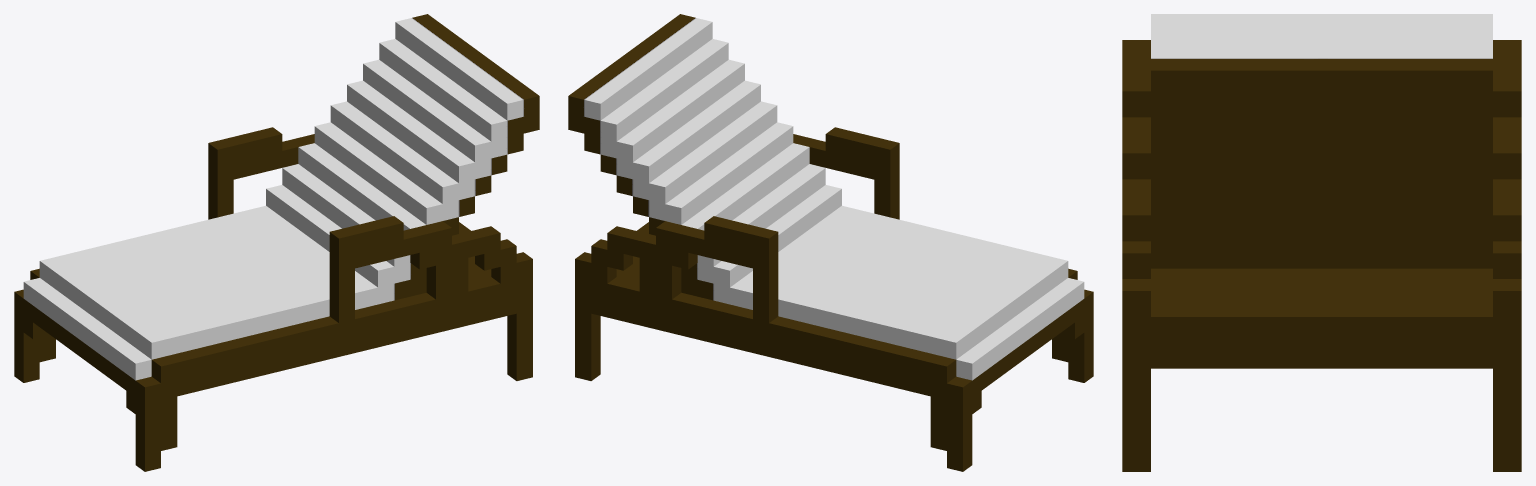
File: beach_chair_4.fbx
3 views of the same model, side by side, from view 1: azimuth 30°, elevation 25°; view 2: azimuth 150°, elevation 25°; view 3: azimuth 270°, elevation 25° (orthographic). The views are drawn at different scales.
Parts seen in each view (by area): view 1: beach_chair_4; view 2: beach_chair_4; view 3: beach_chair_4.
Part boxes in pixels (left/top/right/bottom): beach_chair_4: left=14, top=14, right=539, bottom=471; beach_chair_4: left=568, top=14, right=1093, bottom=471; beach_chair_4: left=1122, top=14, right=1521, bottom=471.
Size of the model in its own units: 25 by 16 by 14.
